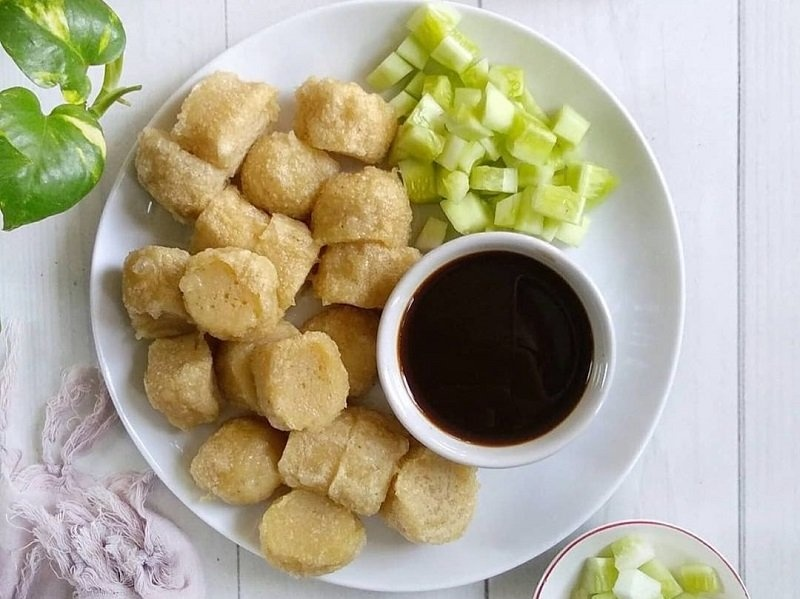pempek: (138, 40, 665, 566)
